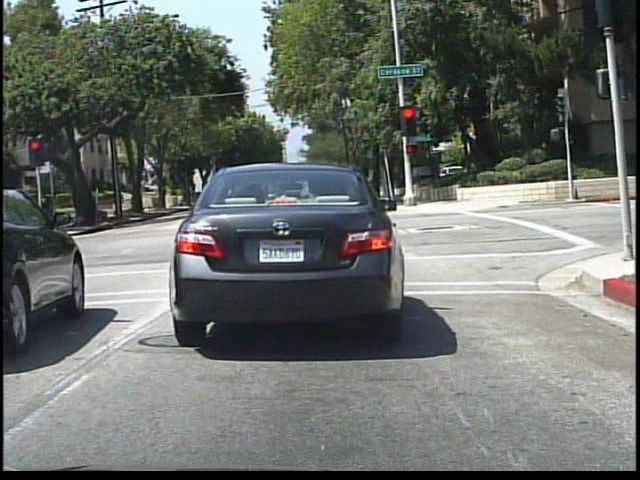person: (34, 186, 58, 235)
